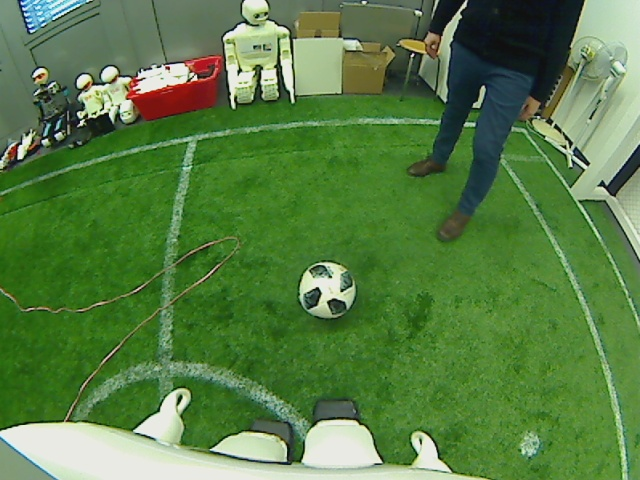ball: (294, 259, 357, 319)
